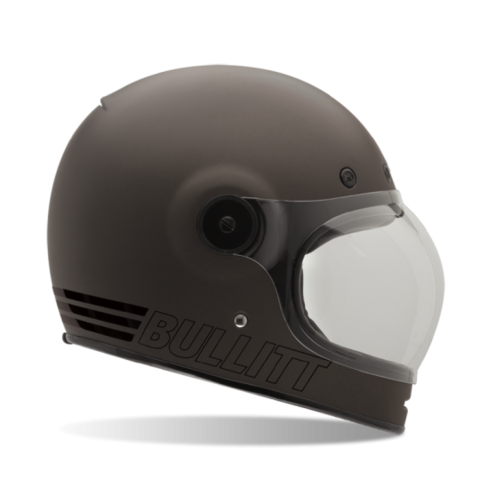with_helmet: (37, 60, 450, 440)
